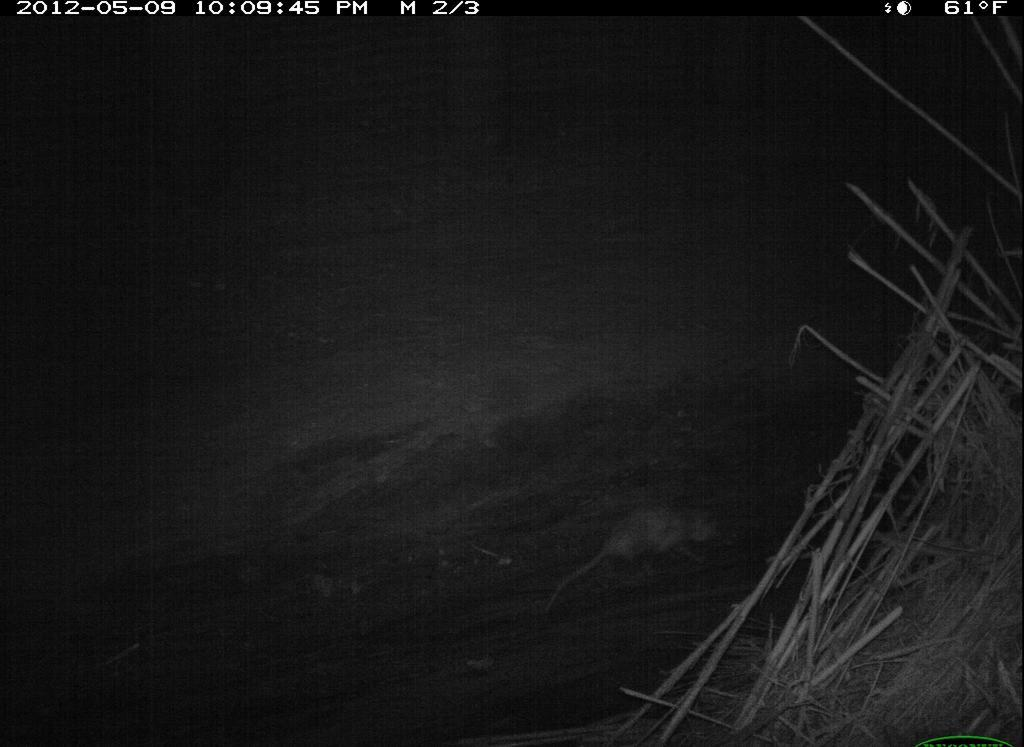opossum: (551, 501, 726, 609)
